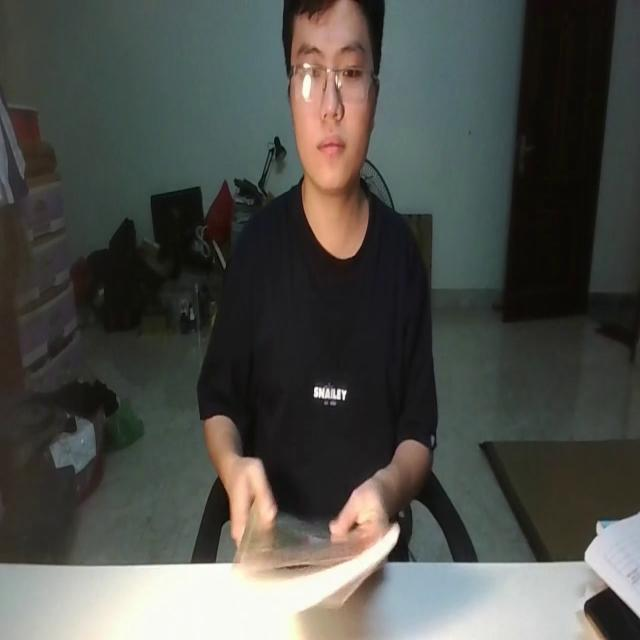book: (233, 510, 401, 621)
student: (199, 0, 437, 570)
